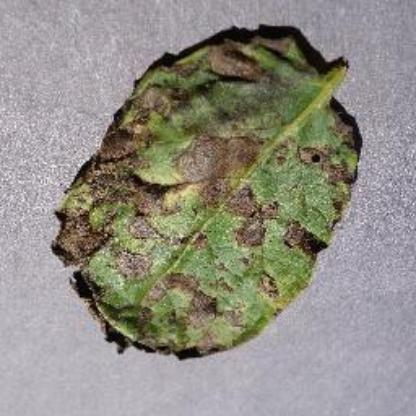Early-Blight: (50, 16, 386, 364)
